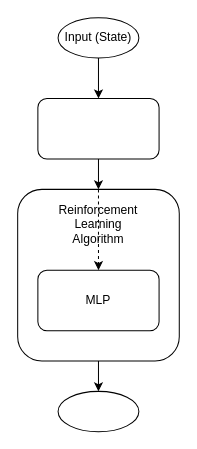
The diagram is 197 pixels wide and 449 high, and some of its shapes have lost their labels. Here are the shapes that lost their labels. From the top down, the centre of each, then its label:
point 98,128: Transformer State Encoder
point 98,411: Output (Action)
